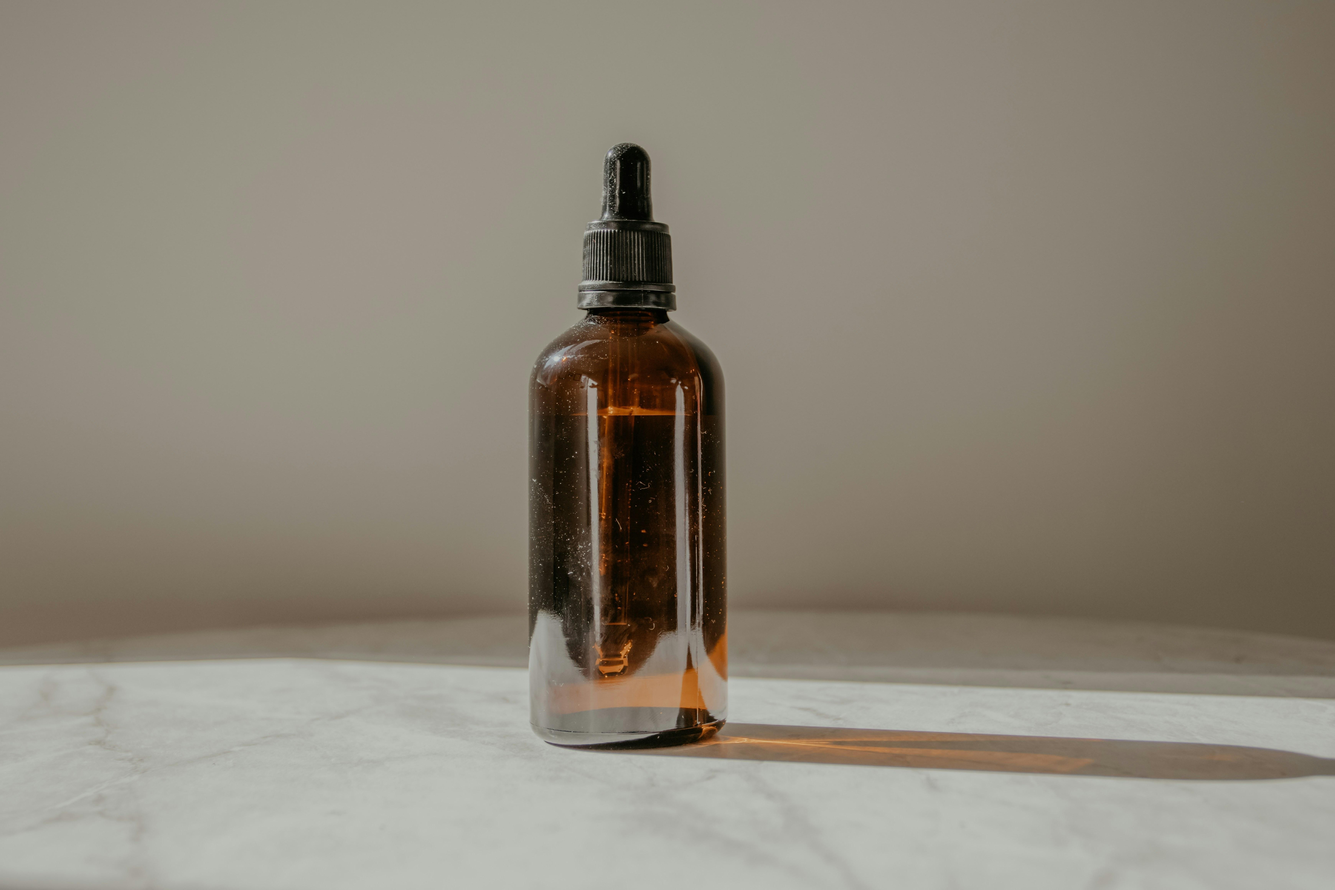Bottle-Detection: (481, 102, 792, 806)
